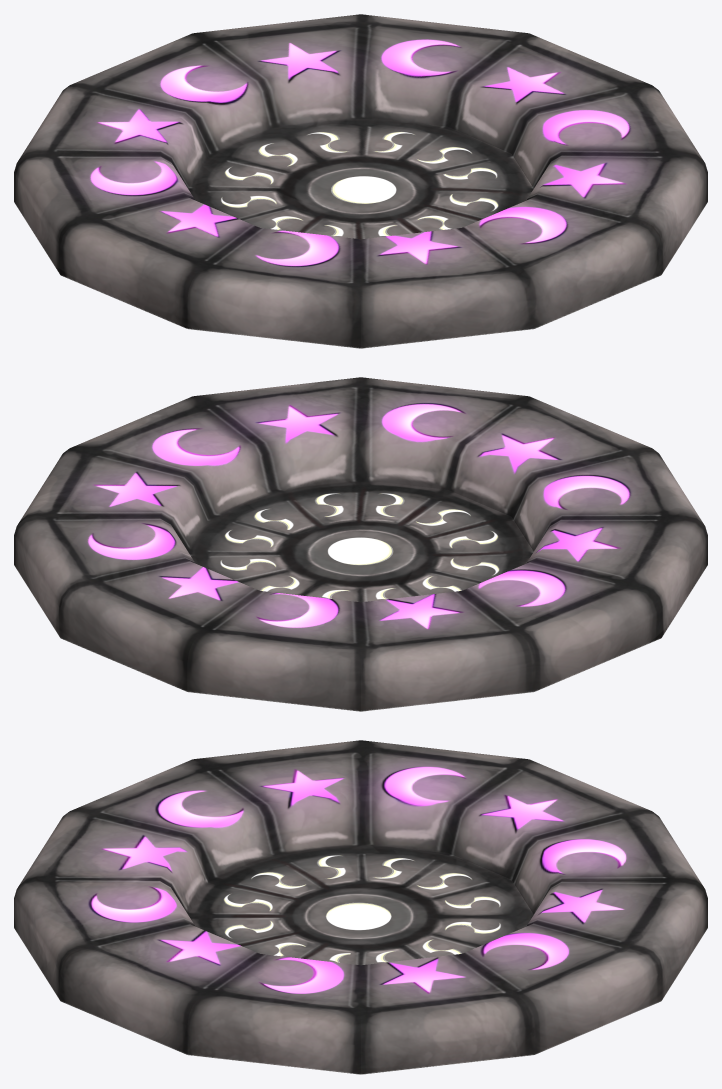
Rendered from WarpStone.gltf.
3 renders of one model, top to bottom at view 1: azimuth 30°, elevation 25°; view 2: azimuth 150°, elevation 25°; view 3: azimuth 270°, elevation 25°, orthographic.
Parts seen in each view (by area): view 1: Portal_StonePlatform-Celestial, Portal_StonePlatform-Inscryption-Celestial; view 2: Portal_StonePlatform-Celestial, Portal_StonePlatform-Inscryption-Celestial; view 3: Portal_StonePlatform-Celestial, Portal_StonePlatform-Inscryption-Celestial.
Boxes of the visible parts, x1,y1,x2,y2 form: Portal_StonePlatform-Celestial: (14,14,707,348); Portal_StonePlatform-Inscryption-Celestial: (221,132,498,236); Portal_StonePlatform-Celestial: (14,377,707,711); Portal_StonePlatform-Inscryption-Celestial: (220,493,499,599); Portal_StonePlatform-Celestial: (14,740,707,1074); Portal_StonePlatform-Inscryption-Celestial: (224,855,500,962).
Bounding box in the file's own units: 37.84 × 2.89 × 37.84.
Materials: 2 (2 with a texture image).
